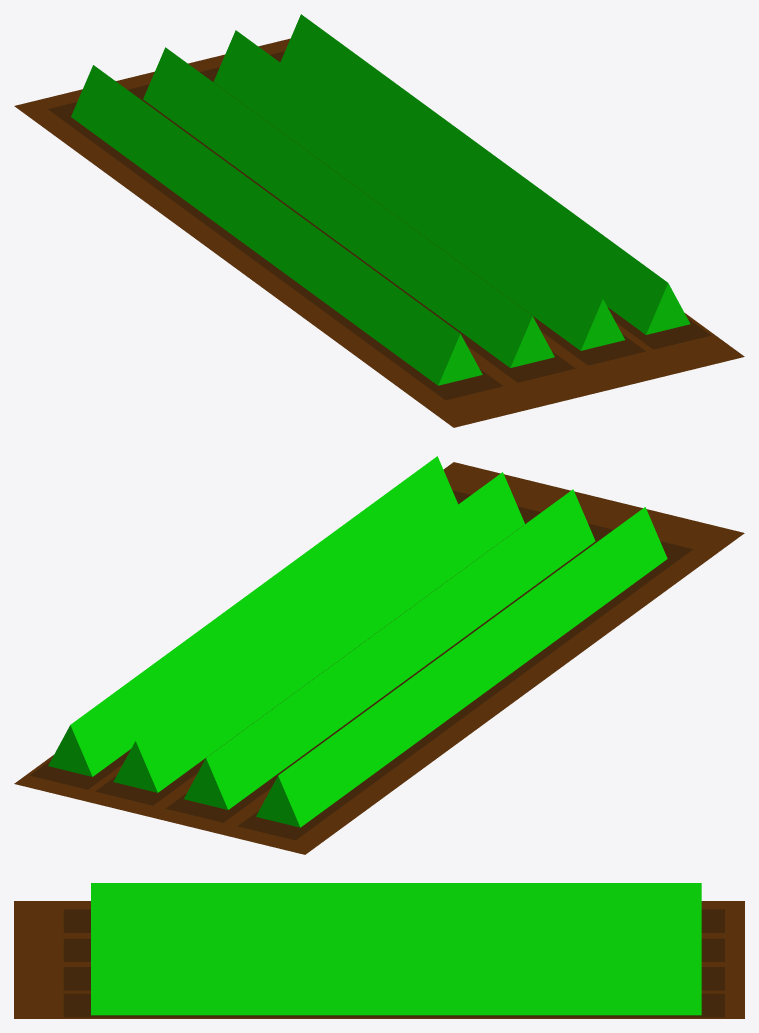
The model's file is GreenVEG.fbx.
The picture shows the model from 3 angles, top to bottom: view 1: azimuth 30°, elevation 25°; view 2: azimuth 150°, elevation 25°; view 3: azimuth 270°, elevation 25°; orthographic projection. The views are drawn at different scales.
Visible parts, largest first — view 1: Plane; view 2: Plane; view 3: Plane.
Part boxes in pixels (bbox=[...]): Plane: bbox=[14, 14, 744, 427]; Plane: bbox=[14, 456, 744, 854]; Plane: bbox=[14, 883, 744, 1018].
Size of the model in its own units: 200 by 31.08 by 523.
